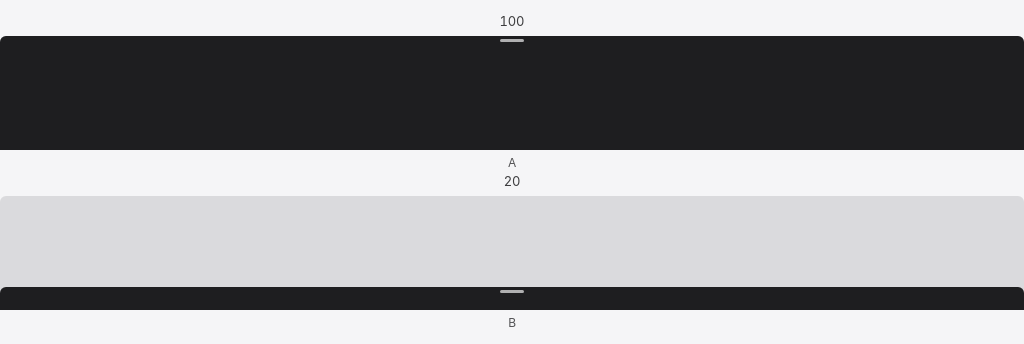
canvas edits render committed document state › commits bar drags and discards cancelled bar drags
The image size is (1024, 344).
Later steps or results of the test are not shown.
Press the mouse on the slider named "Bar 2: B" at (512, 253), box [0,196,1023,310]
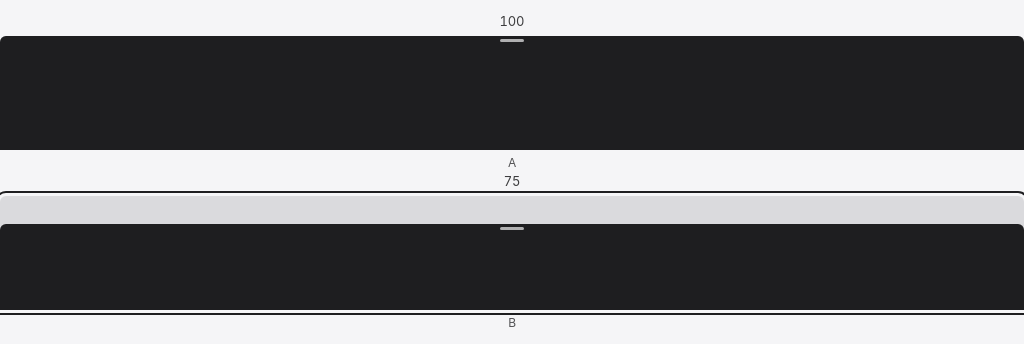
Now the slider named "Bar 2: B" has attribute aria-valuenow="75"
Press the mouse on the slider named "Bar 2: B" at (512, 253), box [0,196,1023,310]
Now the slider named "Bar 2: B" has attribute aria-valuenow="75", box [0,196,1023,310]
